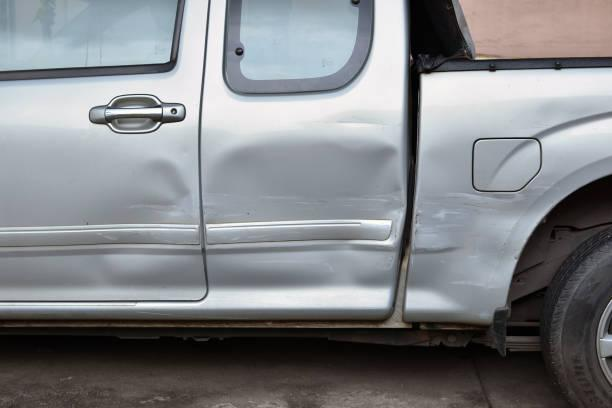doorouter-dent: (3, 65, 208, 308), (205, 81, 408, 312)
quaterpanel-dent: (408, 71, 596, 320)
